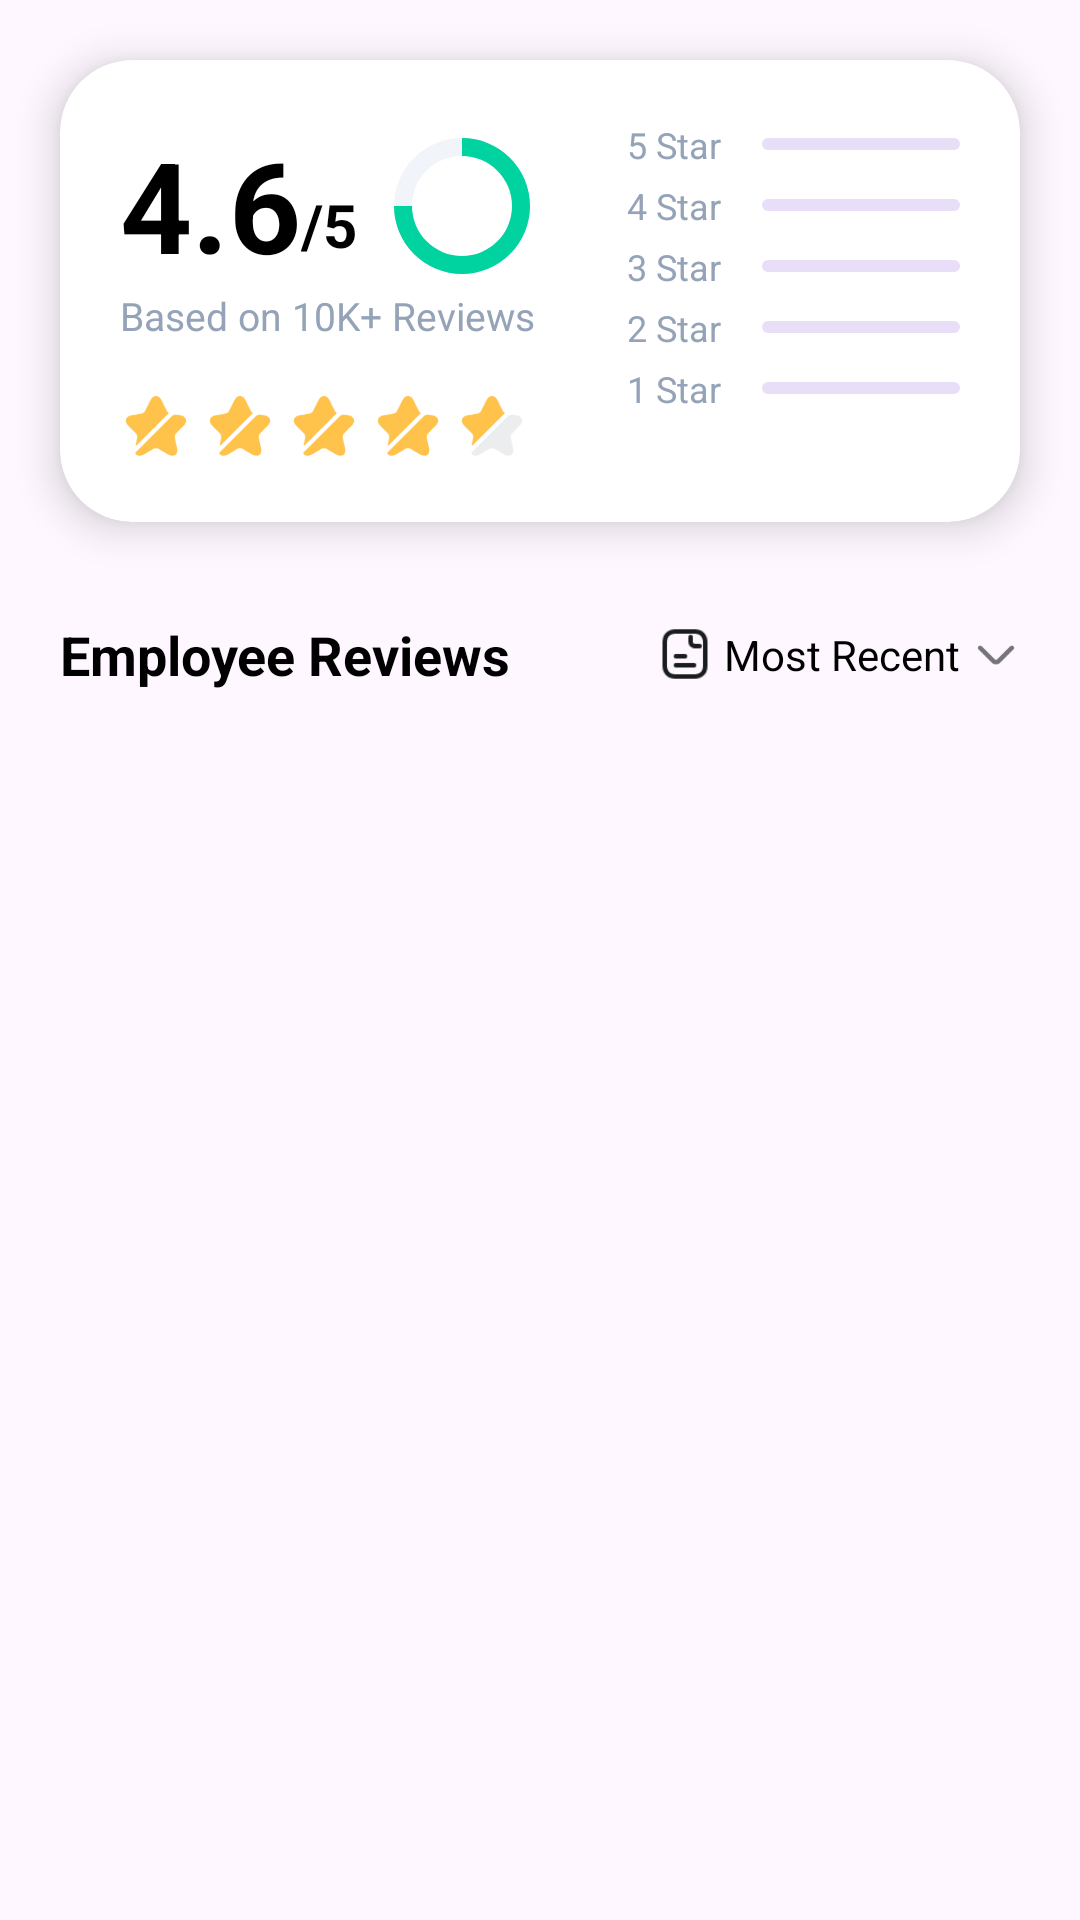

Locate icon controls on the screen. Image size 1080*1920, boxes as (x1, y1, x2, y2).
arrow down: (978, 645, 1014, 665)
book doc: (662, 629, 708, 679)
star full: (126, 396, 186, 456), (210, 396, 270, 456), (294, 396, 354, 456), (378, 396, 438, 456)
star half: (462, 396, 505, 446)
